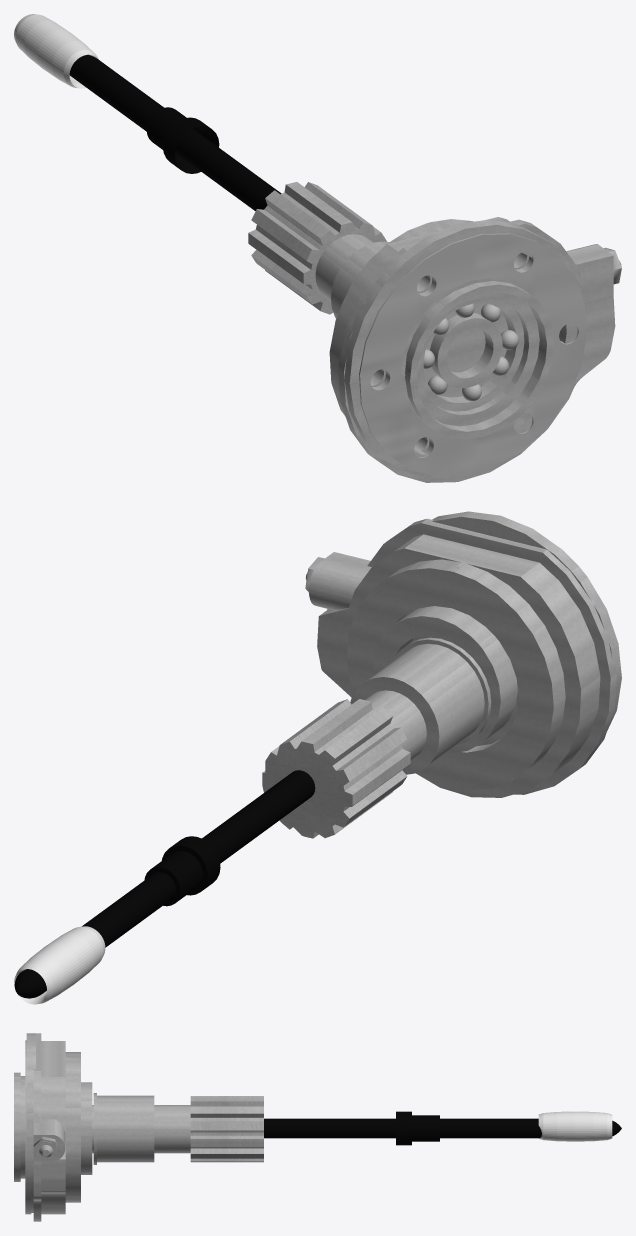
3 renders of one model, top to bottom at view 1: azimuth 30°, elevation 25°; view 2: azimuth 150°, elevation 25°; view 3: azimuth 270°, elevation 25°, orthographic. The views are drawn at different scales.
Parts seen in each view (by area): view 1: 1, 3, 4, 2, Torus.001; view 2: 1, 4, 2, Torus.001; view 3: 1, 4, Torus.001, 2, 3.
Part boxes in pixels (left/top/right/bottom): 1: left=248, top=182, right=621, bottom=482; 3: left=359, top=233, right=586, bottom=476; 4: left=69, top=54, right=281, bottom=210; 2: left=342, top=219, right=586, bottom=478; Torus.001: left=14, top=14, right=98, bottom=88; 1: left=262, top=518, right=616, bottom=838; 4: left=14, top=770, right=315, bottom=998; 2: left=432, top=511, right=621, bottom=730; Torus.001: left=14, top=926, right=105, bottom=1004; 1: left=14, top=1033, right=263, bottom=1221; 4: left=264, top=1111, right=621, bottom=1145; Torus.001: left=538, top=1111, right=612, bottom=1141; 2: left=26, top=1033, right=35, bottom=1212; 3: left=25, top=1040, right=31, bottom=1214.
Size of the model in its own units: 205 by 177 by 573.
Materials: 4 (3 with a texture image).
